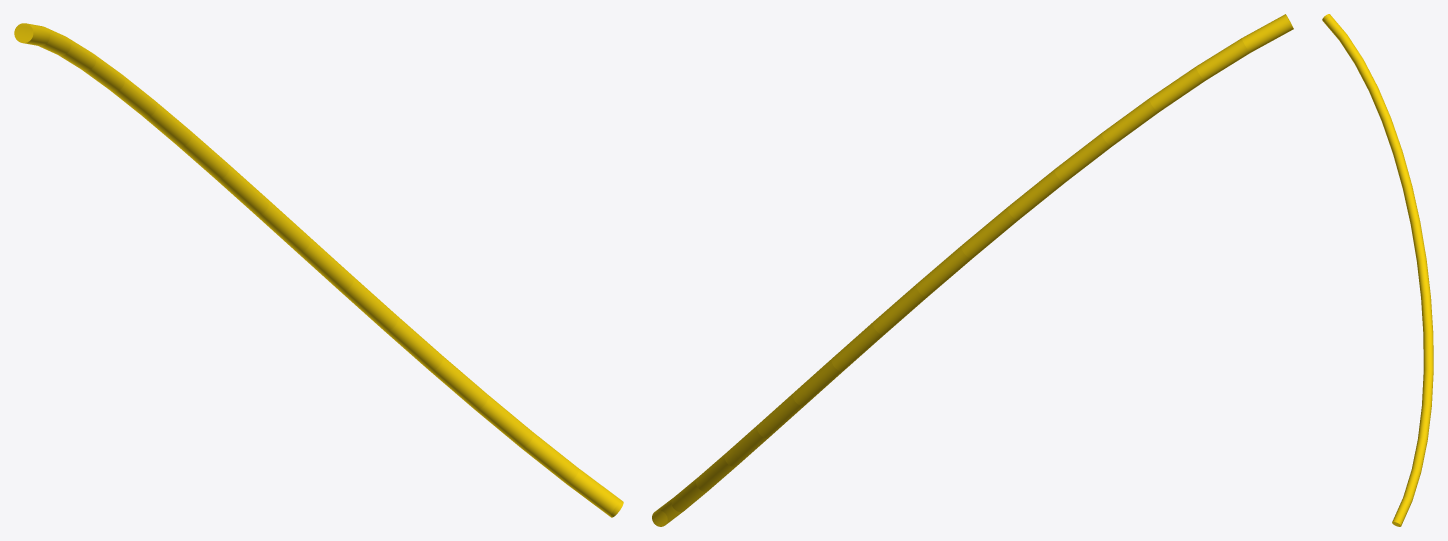
Rendered from Event_421115418_track_53.fbx.
3 views of the same model, side by side, from view 1: azimuth 30°, elevation 25°; view 2: azimuth 150°, elevation 25°; view 3: azimuth 270°, elevation 25° (orthographic). The views are drawn at different scales.
Parts seen in each view (by area): view 1: Model; view 2: Model; view 3: Model.
Boxes of the visible parts, x1=… form: Model: x1=14, y1=23, x2=623, y2=517; Model: x1=652, y1=14, x2=1293, y2=526; Model: x1=1322, y1=14, x2=1433, y2=526.
Bounding box in the file's own units: 1.56 × 1.55 × 0.4437.
